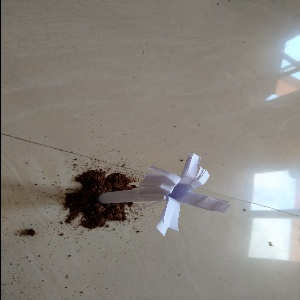weed: (92, 158, 220, 237)
